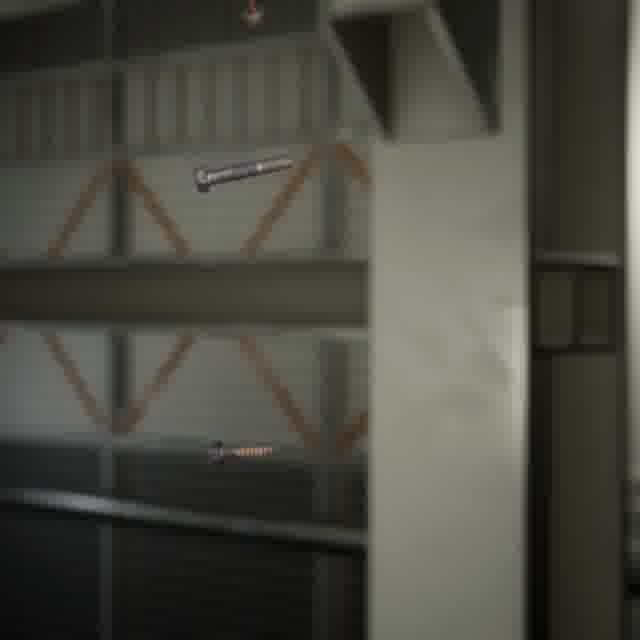bolt: (189, 150, 297, 197), (205, 435, 278, 470), (237, 0, 271, 31)
